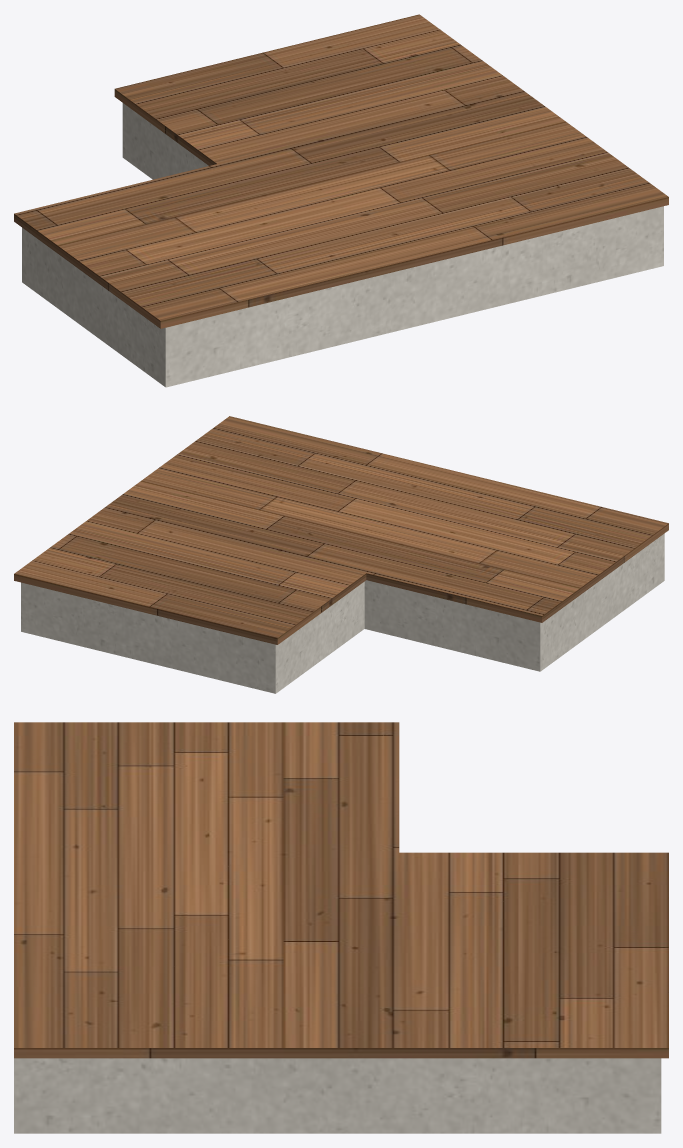
The model's file is floor_floor_u_e0001_h2.glb.
The picture shows the model from 3 angles, top to bottom: view 1: azimuth 30°, elevation 25°; view 2: azimuth 150°, elevation 25°; view 3: azimuth 270°, elevation 25°; orthographic projection. The views are drawn at different scales.
Parts seen in each view (by area): view 1: floor_floor_u_e0001_h2_floor, floor_floor_u_e0001_h2_plaster; view 2: floor_floor_u_e0001_h2_floor, floor_floor_u_e0001_h2_plaster; view 3: floor_floor_u_e0001_h2_floor, floor_floor_u_e0001_h2_plaster.
Boxes of the visible parts, x1=… form: floor_floor_u_e0001_h2_floor: x1=14, y1=14, x2=668, y2=328; floor_floor_u_e0001_h2_plaster: x1=22, y1=103, x2=663, y2=387; floor_floor_u_e0001_h2_floor: x1=14, y1=416, x2=668, y2=644; floor_floor_u_e0001_h2_plaster: x1=21, y1=533, x2=664, y2=693; floor_floor_u_e0001_h2_floor: x1=14, y1=722, x2=668, y2=1058; floor_floor_u_e0001_h2_plaster: x1=14, y1=1058, x2=661, y2=1133.
Bounding box in the file's own units: 2 × 0.255 × 1.7.
Materials: 2 (2 with a texture image).
